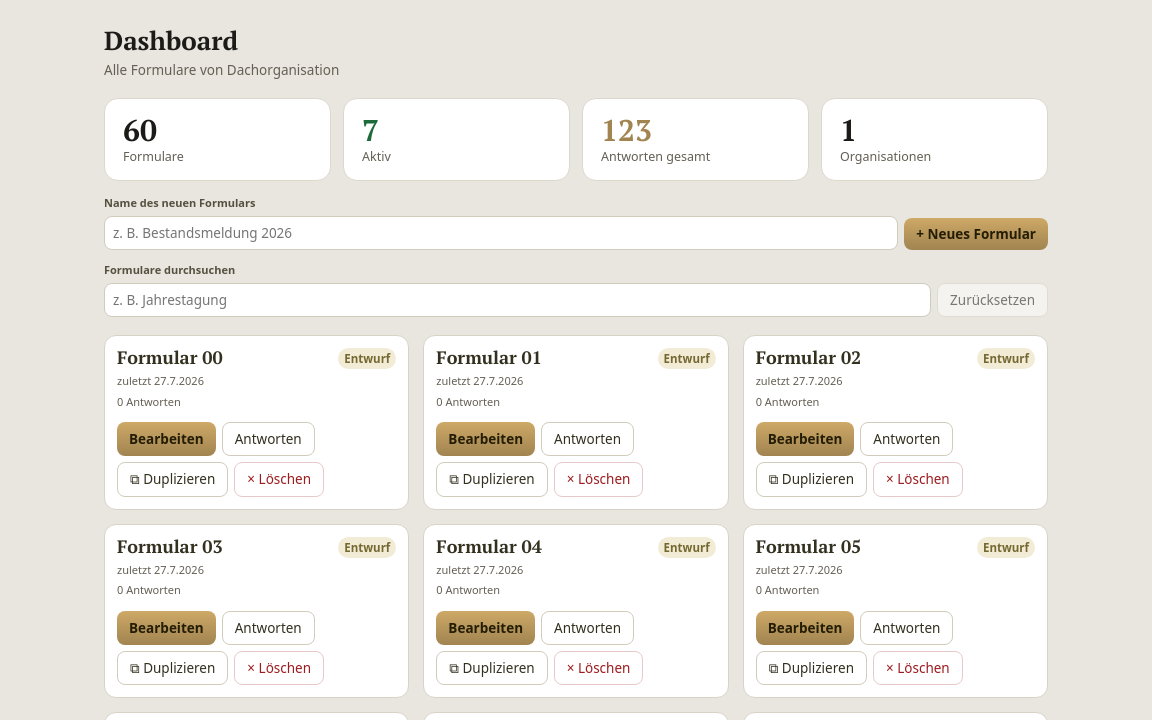
Scenario: DashboardView › page, search and counter › finds a form that the loaded page does not hold
The width and height of the screenshot is (1152, 720).
Expected: the heading "Formular 00" is shown, [117, 346, 223, 369]
Expected: the text "Sterbefallmeldung" is not shown
Type "Sterbefallmeldung" into the search field labelled "Formulare durchsuchen" at coordinates (518, 300), box [104, 283, 931, 317]
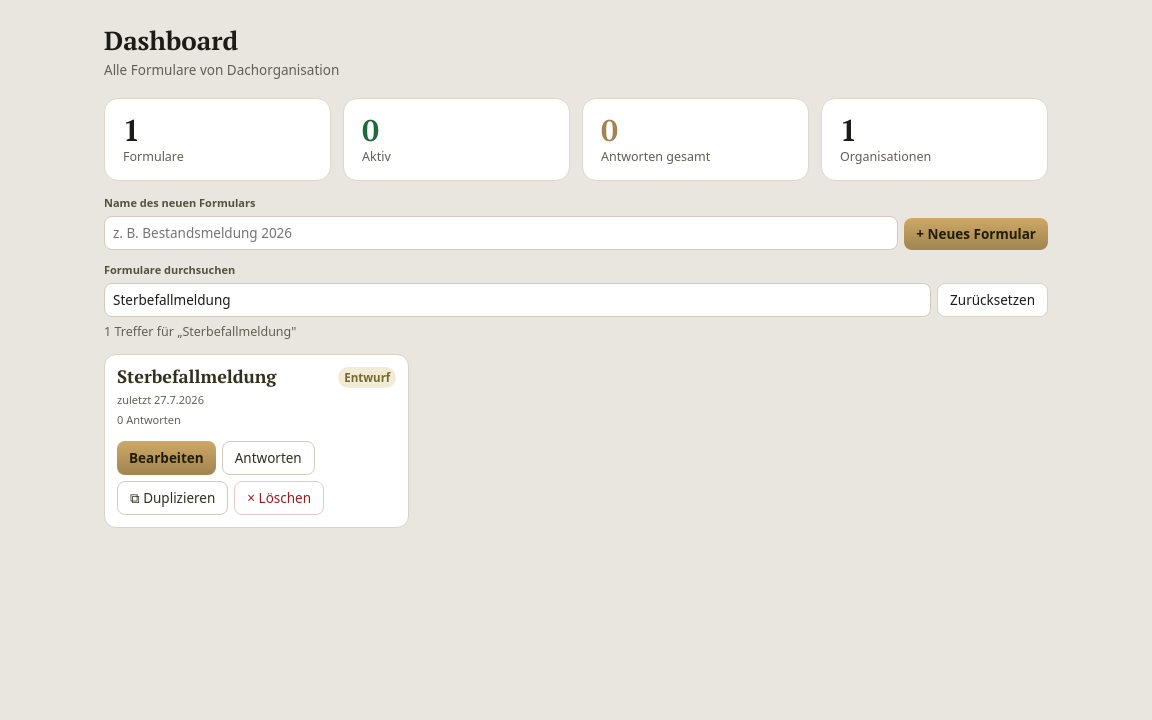
Now the heading "Sterbefallmeldung" is shown, box [117, 365, 276, 388]
